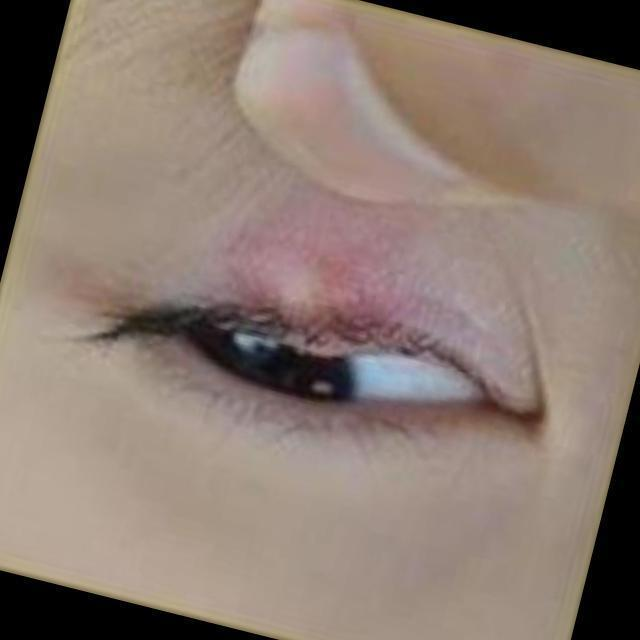Stye: (204, 212, 412, 396)
